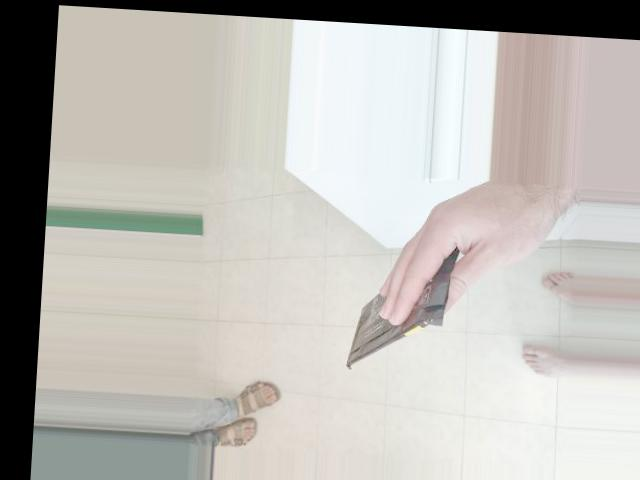chocolate: (338, 220, 471, 377)
